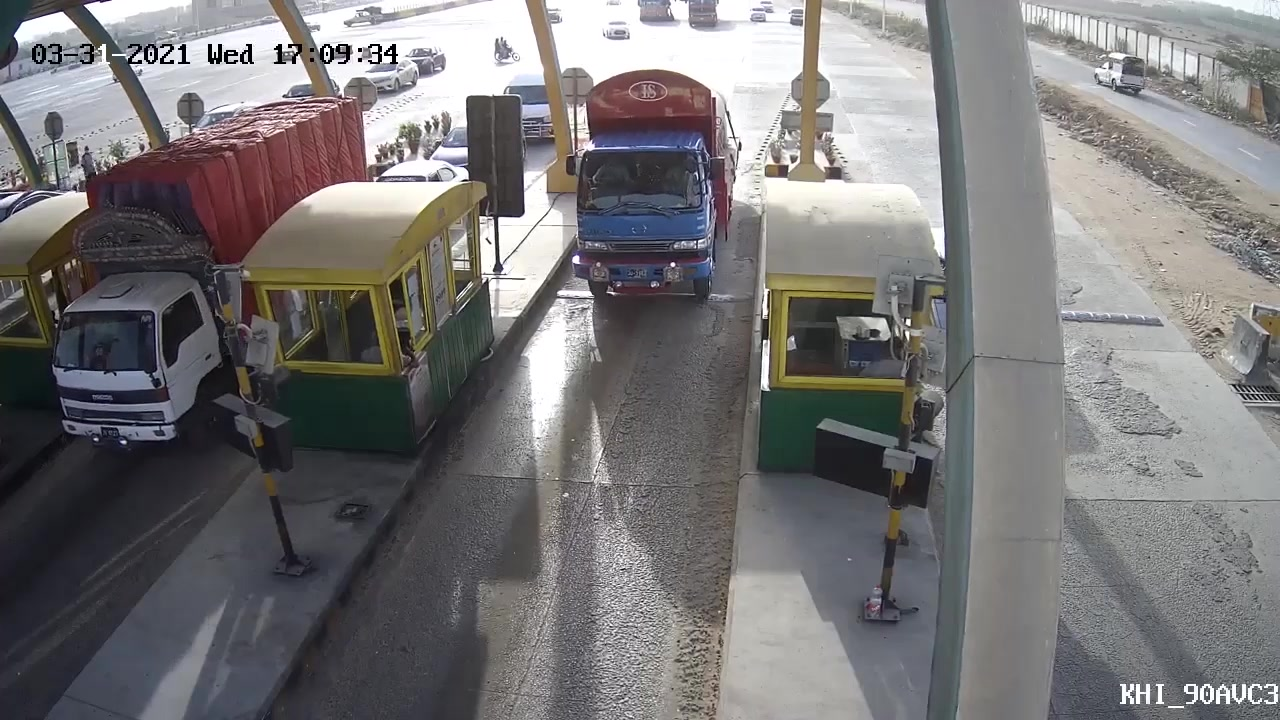F5: (543, 60, 752, 301)
